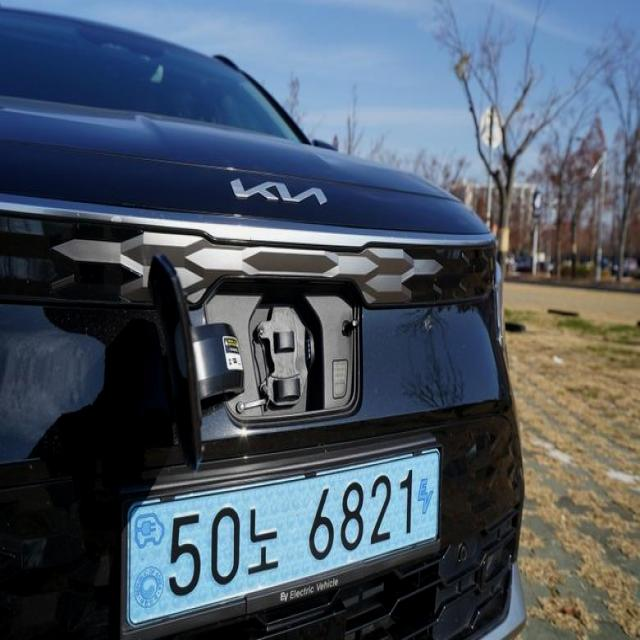EV_plate: (122, 443, 445, 630)
